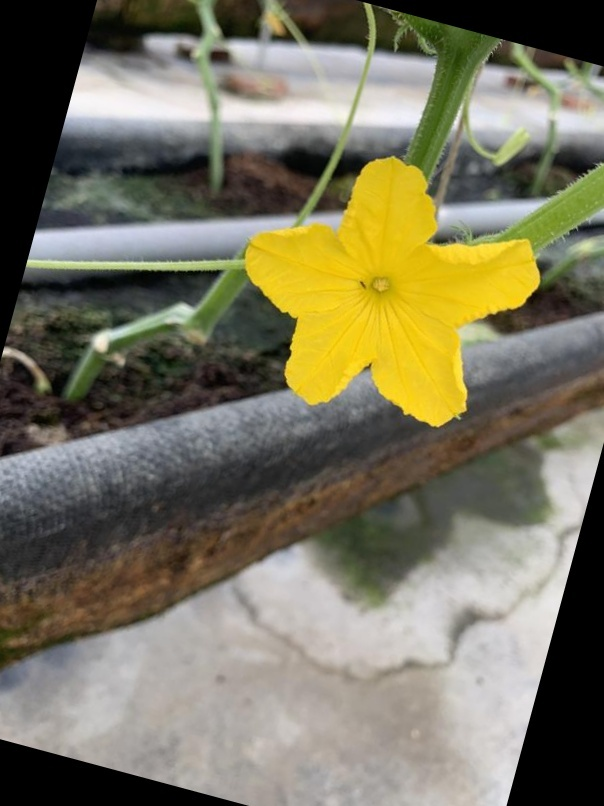flowering: (219, 132, 552, 436)
